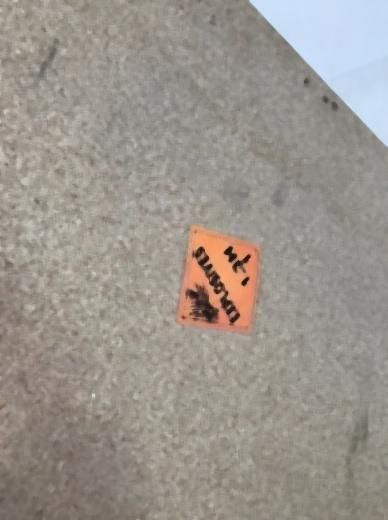explosive: (176, 224, 261, 334)
